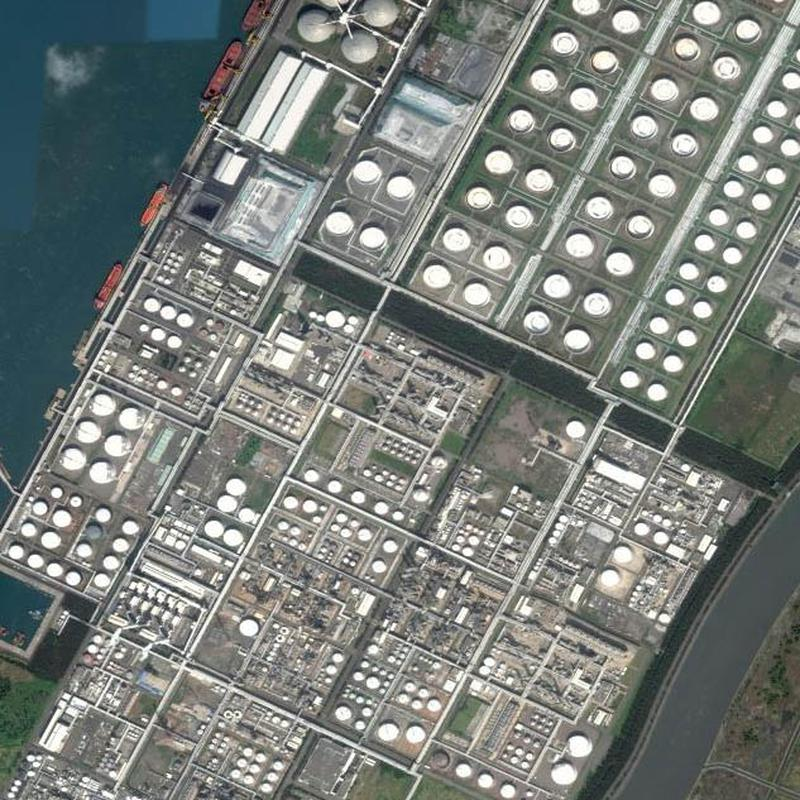ship: (200, 40, 243, 113), (138, 183, 171, 226), (91, 263, 122, 308), (241, 3, 275, 29)
storagetank: (340, 28, 377, 62), (297, 9, 334, 43), (363, 1, 399, 28), (442, 225, 470, 252), (547, 128, 576, 153), (690, 95, 719, 120), (609, 155, 636, 181), (590, 49, 617, 75), (484, 245, 512, 270), (484, 149, 512, 174), (570, 86, 598, 111), (528, 68, 557, 92), (466, 186, 492, 212), (360, 227, 387, 252), (523, 310, 550, 335), (564, 329, 591, 354), (543, 273, 571, 297), (422, 264, 451, 287), (527, 168, 554, 192), (648, 174, 675, 198), (463, 282, 491, 305), (607, 252, 632, 277), (628, 215, 653, 240), (736, 19, 761, 44), (583, 292, 609, 316), (693, 1, 720, 24), (387, 176, 412, 200), (588, 196, 613, 220), (631, 113, 656, 137), (671, 131, 696, 155), (613, 10, 638, 34), (566, 233, 592, 256), (508, 110, 534, 133), (119, 407, 144, 430), (76, 421, 101, 444), (327, 212, 352, 235), (651, 77, 676, 100), (674, 38, 699, 61), (714, 56, 739, 79), (552, 762, 578, 784), (567, 734, 591, 757), (90, 394, 115, 416), (507, 204, 532, 226), (88, 463, 115, 483), (551, 32, 576, 53), (104, 434, 130, 454), (355, 161, 378, 181), (378, 723, 399, 741), (571, 1, 600, 14), (647, 383, 667, 401), (706, 274, 726, 292), (722, 246, 742, 264), (766, 167, 786, 185), (636, 342, 655, 360), (665, 287, 684, 305), (565, 420, 584, 438), (693, 301, 713, 318), (767, 100, 787, 117), (225, 479, 245, 496), (405, 725, 425, 742), (216, 495, 237, 511), (664, 354, 682, 372), (695, 234, 713, 252), (737, 221, 755, 239), (753, 192, 771, 210), (739, 154, 758, 171), (781, 138, 800, 155), (613, 546, 632, 563), (680, 263, 700, 279), (40, 532, 60, 548), (753, 125, 771, 142), (650, 317, 669, 333), (709, 209, 728, 225), (723, 181, 742, 197), (781, 72, 800, 88), (602, 569, 621, 585), (202, 521, 221, 537), (239, 619, 258, 635), (621, 370, 638, 387), (679, 329, 695, 347), (327, 310, 345, 326), (224, 530, 242, 546), (52, 511, 71, 526), (95, 507, 112, 523), (455, 763, 472, 779), (47, 562, 63, 578), (336, 706, 352, 722), (121, 519, 138, 534), (177, 312, 192, 328), (112, 537, 129, 551), (104, 555, 119, 570), (28, 554, 43, 569), (66, 571, 81, 586), (159, 306, 175, 320), (30, 500, 47, 513), (20, 523, 37, 536), (167, 335, 182, 349), (77, 543, 92, 557), (9, 545, 24, 559), (95, 573, 110, 587), (413, 488, 429, 501), (478, 773, 494, 786), (144, 298, 158, 312), (374, 501, 388, 515), (432, 455, 446, 469), (373, 560, 387, 574), (634, 523, 650, 535), (653, 532, 669, 544), (500, 784, 516, 796), (351, 490, 365, 503), (239, 508, 253, 521), (283, 495, 297, 508), (302, 499, 316, 512), (358, 528, 372, 541), (383, 540, 397, 553), (150, 329, 165, 341), (426, 700, 441, 712), (305, 469, 318, 481), (49, 484, 62, 496), (70, 495, 82, 507), (332, 652, 344, 664), (367, 676, 379, 688), (87, 643, 99, 655), (327, 482, 341, 492), (658, 613, 670, 624), (171, 385, 182, 397), (418, 688, 430, 699), (92, 634, 104, 645), (336, 513, 348, 523), (368, 643, 378, 655), (404, 682, 416, 692), (279, 718, 291, 728), (157, 380, 167, 391), (354, 720, 366, 729), (254, 753, 266, 762), (236, 758, 248, 767), (267, 772, 277, 782), (278, 521, 289, 530), (326, 665, 337, 674), (363, 708, 374, 717), (484, 657, 495, 666), (479, 666, 490, 675), (559, 514, 569, 523), (393, 511, 403, 520), (291, 526, 300, 536), (340, 528, 350, 537), (354, 671, 364, 680), (398, 694, 408, 703), (411, 700, 421, 709), (273, 761, 283, 770), (249, 765, 259, 774), (468, 536, 479, 544), (463, 547, 474, 555), (681, 463, 690, 472), (348, 316, 358, 324), (555, 522, 565, 530), (243, 748, 253, 756), (229, 770, 239, 778), (244, 776, 254, 784), (262, 784, 272, 792), (113, 652, 123, 660), (653, 514, 661, 523), (361, 661, 370, 669), (172, 260, 181, 268), (384, 479, 393, 487), (548, 537, 556, 545), (331, 524, 339, 532), (350, 519, 358, 527), (526, 753, 534, 761), (522, 762, 530, 770), (162, 278, 170, 286), (178, 365, 186, 373), (393, 483, 401, 491), (289, 538, 297, 546), (298, 543, 306, 551), (278, 413, 286, 421), (250, 409, 258, 417), (356, 696, 364, 704), (350, 586, 358, 594), (532, 739, 540, 747), (388, 656, 396, 664), (433, 661, 441, 669), (272, 717, 280, 725), (217, 747, 225, 755), (109, 771, 117, 779), (168, 267, 177, 274), (317, 313, 324, 322), (188, 370, 197, 377), (401, 646, 410, 653), (139, 324, 149, 330), (662, 519, 670, 526), (552, 530, 560, 537), (313, 516, 321, 523), (176, 254, 183, 262), (154, 274, 162, 281), (183, 356, 190, 364), (283, 423, 291, 430), (286, 417, 293, 425), (235, 401, 243, 408), (243, 405, 251, 412), (254, 401, 262, 408), (383, 681, 391, 688), (379, 688, 387, 695), (206, 318, 214, 325), (14, 780, 23, 786), (361, 469, 370, 475), (345, 324, 352, 331), (516, 748, 523, 755), (195, 361, 202, 368), (27, 755, 34, 762), (267, 416, 274, 423), (523, 737, 530, 744), (197, 729, 204, 736), (451, 545, 459, 551), (399, 444, 407, 450), (320, 504, 326, 512), (465, 524, 473, 530), (471, 527, 479, 533), (168, 252, 176, 258), (35, 755, 43, 761), (291, 426, 297, 434), (325, 677, 331, 685), (81, 776, 89, 782), (385, 437, 391, 444), (166, 258, 173, 264), (310, 311, 316, 318), (33, 761, 40, 767), (121, 647, 128, 653), (97, 653, 104, 659), (321, 547, 327, 554), (210, 334, 216, 341), (455, 536, 463, 541), (373, 474, 381, 479), (380, 469, 388, 474), (389, 474, 397, 479), (388, 674, 396, 679), (365, 699, 373, 704), (140, 369, 148, 374), (273, 643, 281, 648), (507, 744, 513, 750), (162, 264, 168, 270), (10, 786, 19, 790), (344, 557, 350, 563), (294, 420, 300, 426), (248, 399, 254, 405), (138, 377, 144, 383), (129, 373, 135, 379), (530, 720, 536, 726), (399, 652, 405, 658), (219, 722, 225, 728), (415, 451, 420, 458), (215, 732, 222, 737), (317, 554, 324, 559), (276, 421, 283, 426), (380, 669, 387, 674), (131, 365, 138, 370), (206, 744, 214, 748), (642, 511, 648, 516), (393, 441, 399, 446), (463, 531, 469, 536), (478, 530, 483, 536), (511, 757, 517, 762), (8, 791, 14, 796), (270, 411, 276, 416), (543, 727, 548, 733), (636, 585, 641, 591), (267, 656, 273, 661), (396, 660, 401, 666), (394, 651, 399, 657), (407, 449, 412, 454), (516, 733, 521, 738), (536, 724, 541, 729), (459, 530, 465, 534), (28, 771, 34, 775), (212, 738, 218, 742), (221, 742, 225, 748), (397, 478, 403, 482), (350, 561, 356, 565), (262, 667, 268, 671), (269, 651, 275, 655), (200, 724, 206, 728), (224, 737, 229, 741), (348, 552, 352, 557), (373, 666, 377, 671), (632, 591, 636, 596), (631, 597, 636, 601), (628, 603, 633, 607), (272, 648, 276, 651)
